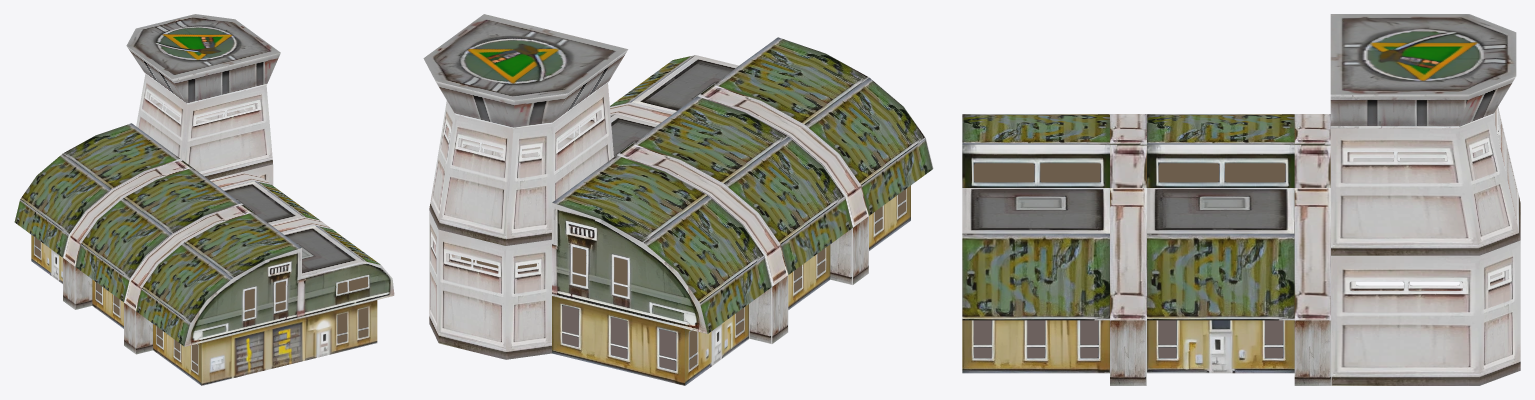
File: l_hq_hdtex.glb
The picture shows the model from 3 angles, left to right: view 1: azimuth 30°, elevation 25°; view 2: azimuth 150°, elevation 25°; view 3: azimuth 270°, elevation 25°; orthographic projection. The views are drawn at different scales.
Parts seen in each view (by area): view 1: L_SensorControl, LITWIN_SensorCon; view 2: L_SensorControl, LITWIN_SensorCon; view 3: L_SensorControl, LITWIN_SensorCon.
Part boxes in pixels (<box>): L_SensorControl: <box>14,14,394,385</box>; LITWIN_SensorCon: <box>35,92,368,372</box>; L_SensorControl: <box>423,14,933,385</box>; LITWIN_SensorCon: <box>446,110,905,370</box>; L_SensorControl: <box>962,14,1520,385</box>; LITWIN_SensorCon: <box>974,143,1508,357</box>.
Bounding box in the file's own units: 20.65 × 17.75 × 30.23.
2 materials, 2 textured.
